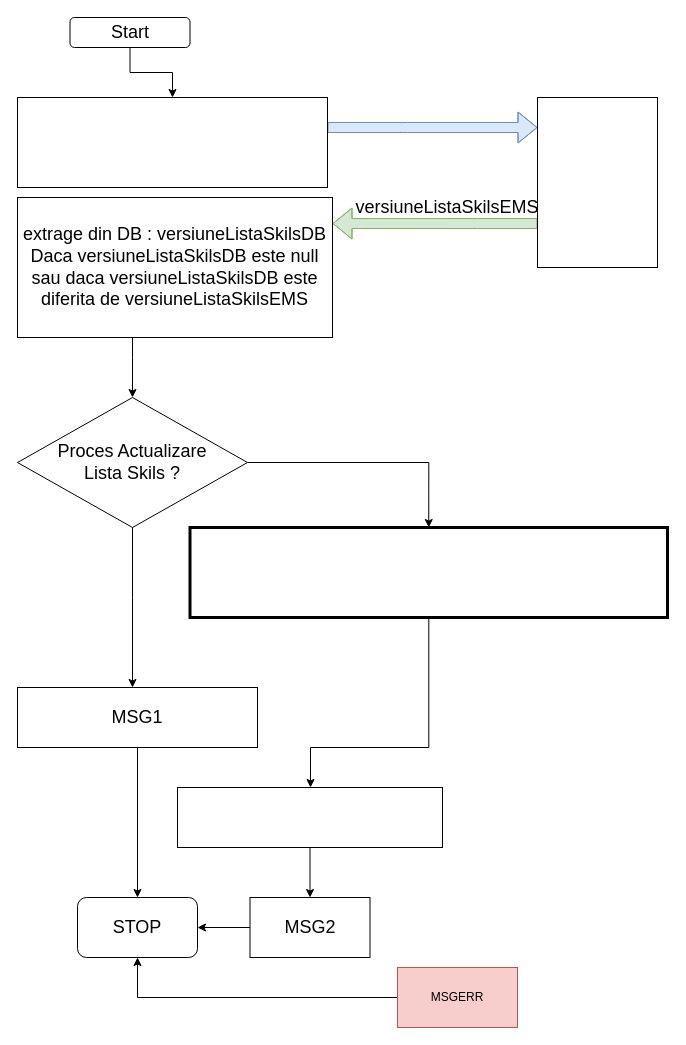
Some shapes in this 686 by 1045 pixel diagram are drawn without their labels. The centre of each missing label's shape, as x and y in pixels:
"Apeleaza EMSI pt informatii versiune lista skiluri" goes at point (172, 142).
"Creare/Actualizare in DB versiuneListaSkilsDB" goes at point (309, 817).
"Proces Actualizare List Skils" goes at point (428, 572).
